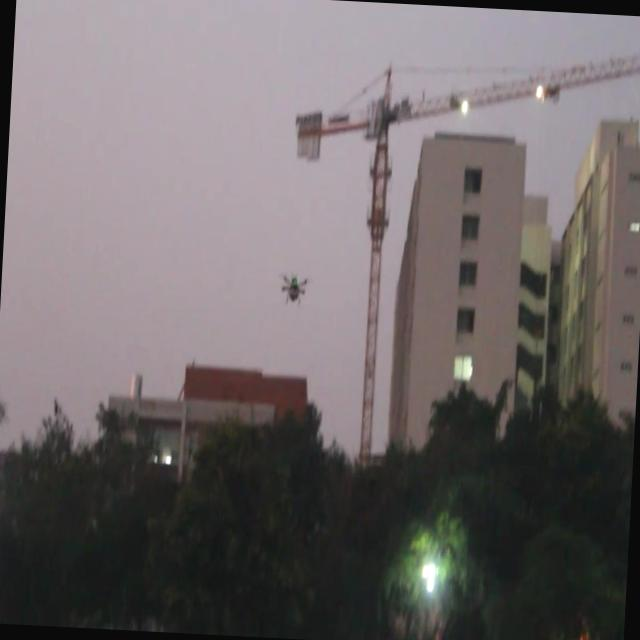drone: (280, 270, 310, 309)
